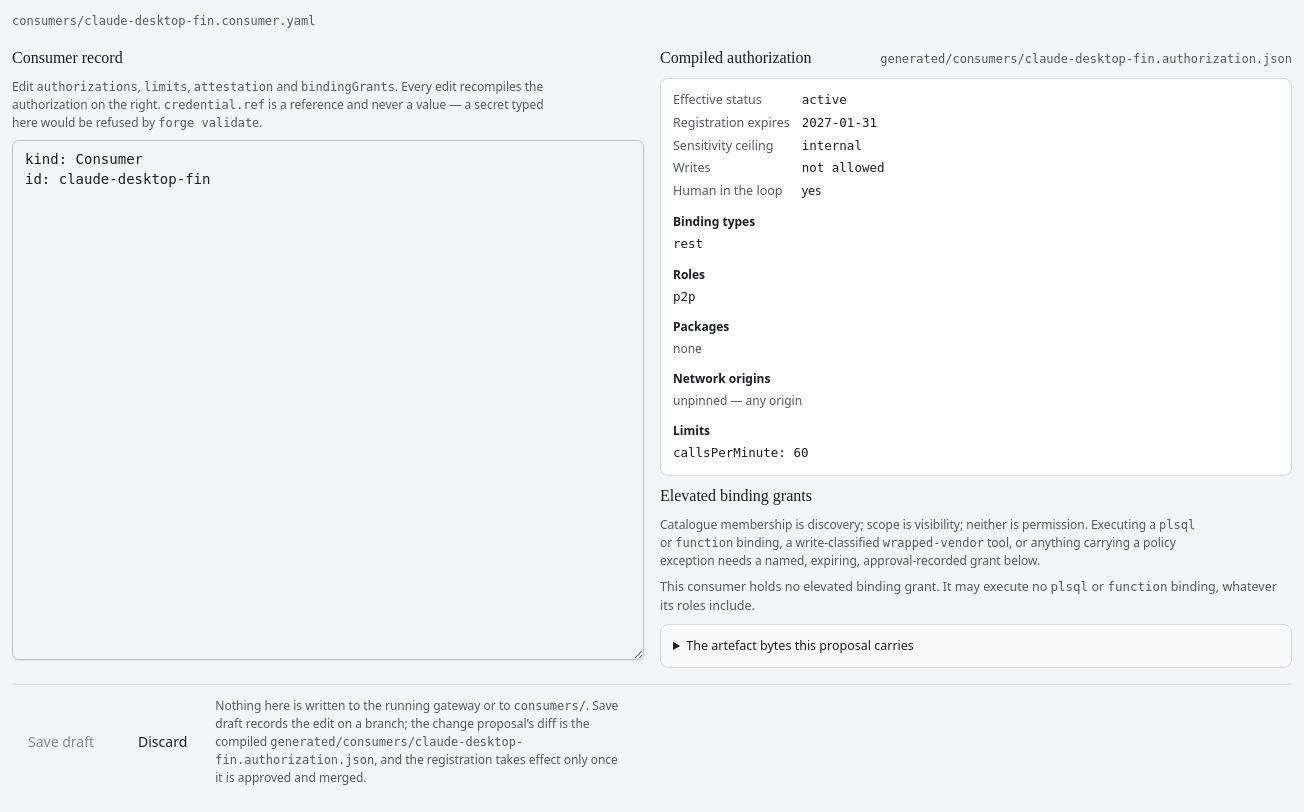
Test: ConsumerEditor — the compiled authorization is explicit, and live › shows no authorization at all when the edit does not compile
Expected: the element with test id "compiled-authorization" is shown, [660,78,1292,476]
Replace the text in the text box with test id "consumer-yaml" with "broken" at point(328, 400), box [12,140,644,660]
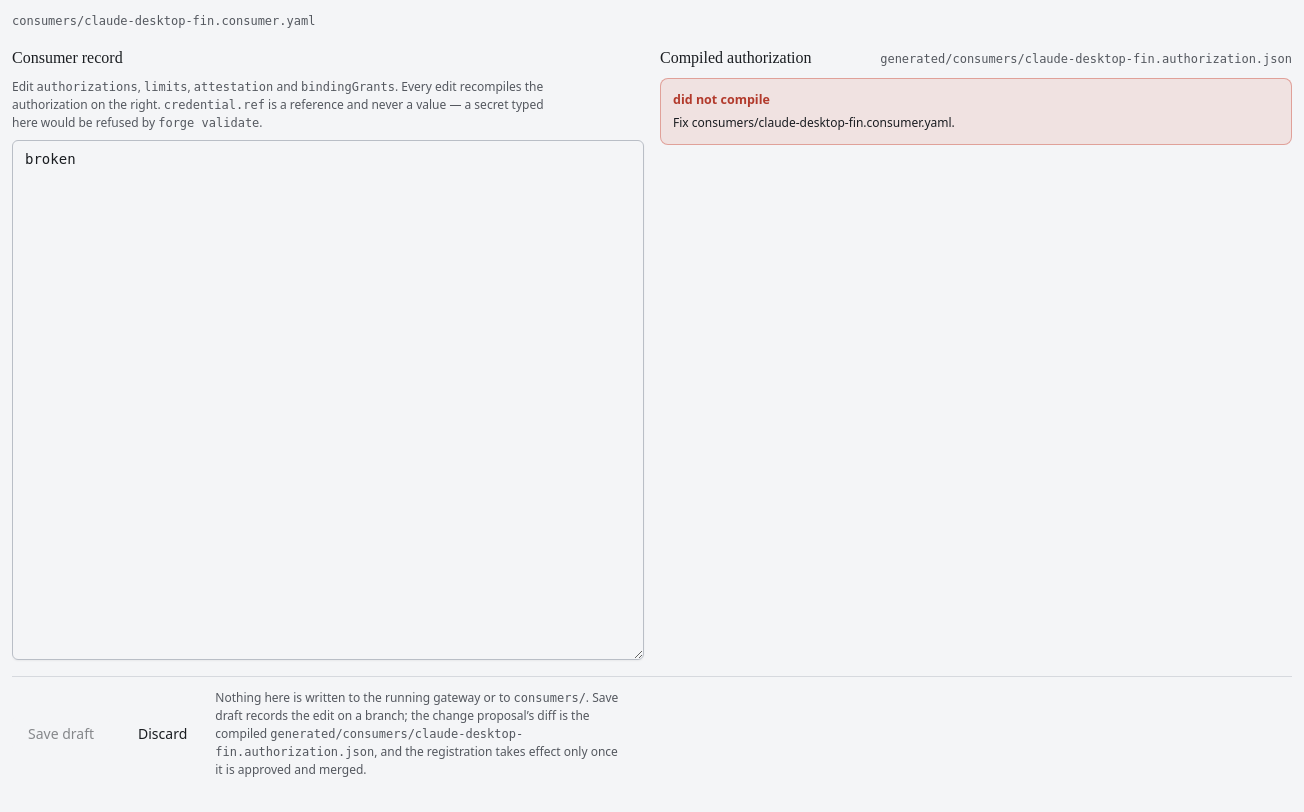
Expected: the message "did not compile Fix consumers/claude-desktop-fin.consumer.yaml." is shown, [660,78,1292,145]
Expected: the element with test id "compiled-authorization" is gone
Expected: the element with test id "elevated-grant-panel" is gone
